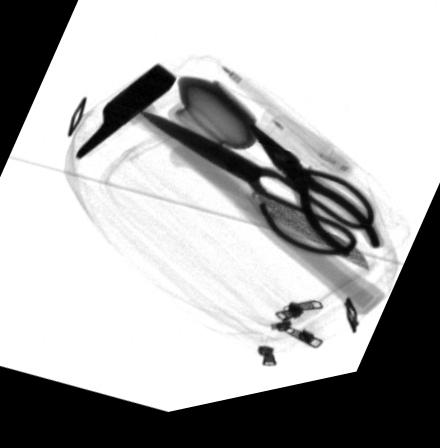Hammer: (74, 66, 385, 332)
Knife: (166, 148, 372, 288)
Pliers: (243, 130, 383, 273)
Scissors: (136, 115, 376, 270)
